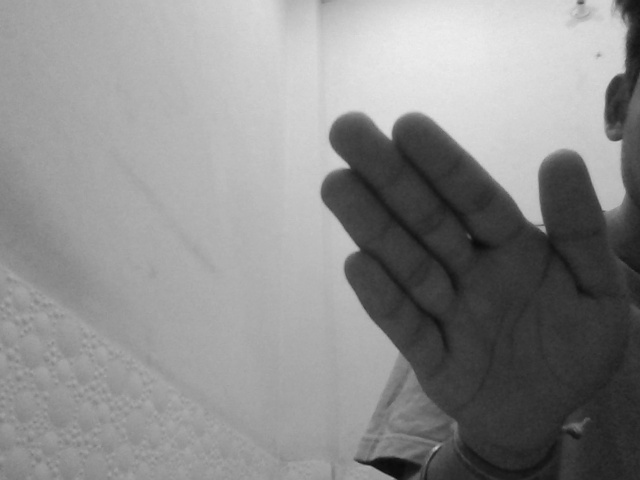Hello: (319, 105, 637, 446)
